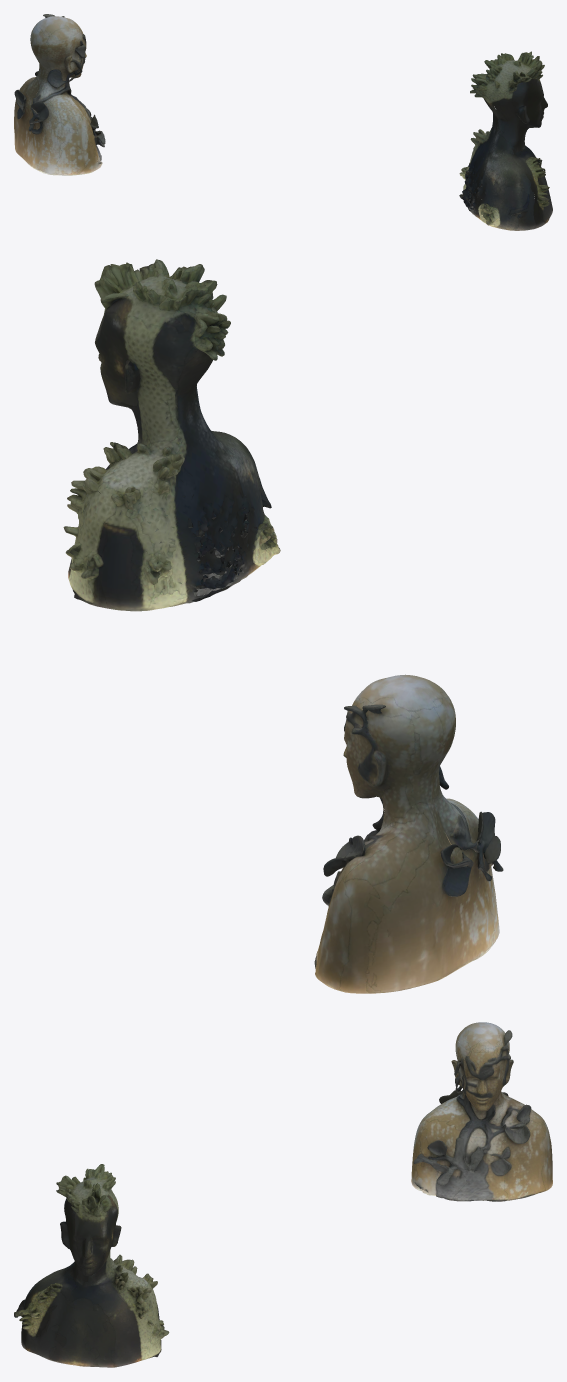
The model's file is Statue merge.glb.
3 renders of one model, top to bottom at view 1: azimuth 30°, elevation 25°; view 2: azimuth 150°, elevation 25°; view 3: azimuth 270°, elevation 25°, orthographic. The views are drawn at different scales.
Visible parts, largest first — view 1: Statue 2.002; view 2: Statue 2.002; view 3: Statue 2.002.
Boxes of the visible parts, x1,y1,x2,y2 form: Statue 2.002: [14, 14, 552, 230]; Statue 2.002: [63, 259, 503, 993]; Statue 2.002: [14, 1022, 552, 1367].
Size of the model in its own units: 1.74 by 0.6875 by 1.94.
Materials: 1 (1 with a texture image).
